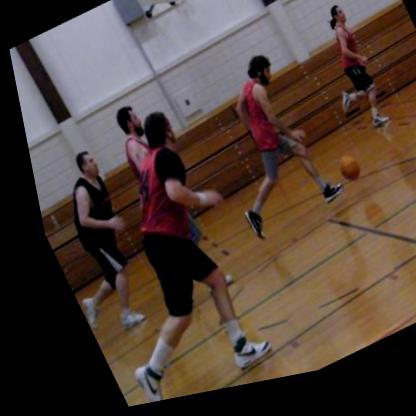basketball: (321, 160, 359, 199)
